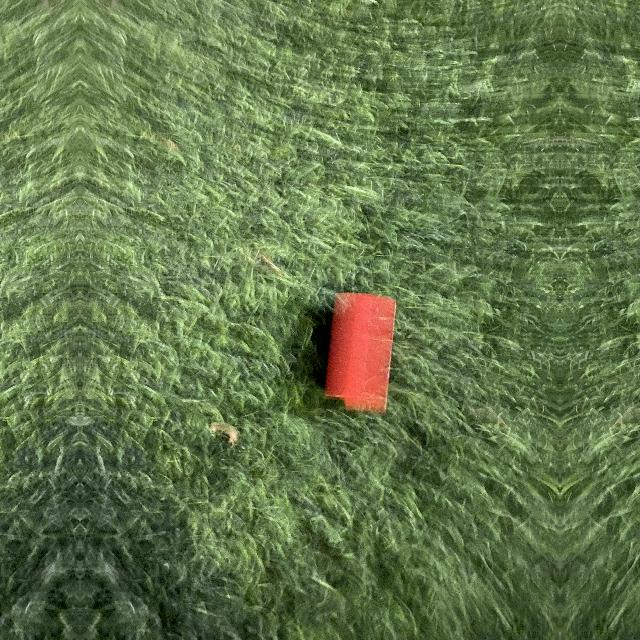red block: (324, 294, 397, 416)
